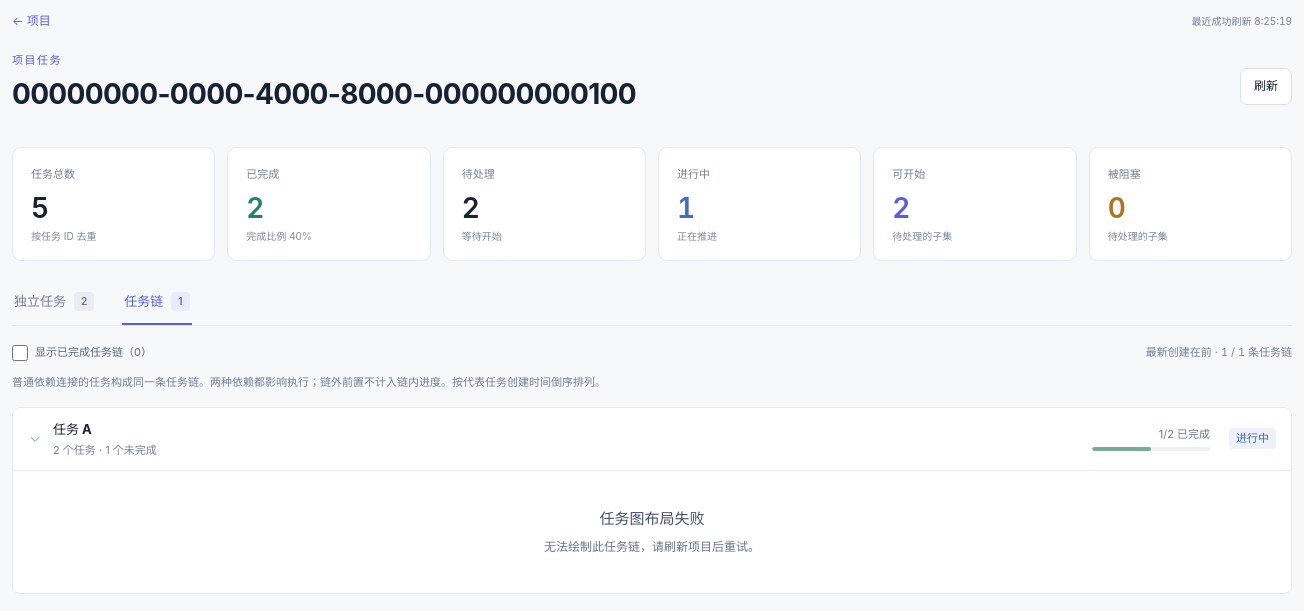
project task views › shows confirmed platform requirements in standalone rows without changing readiness
Click the tab "独立任务 2" at (54, 308), box x1=12 y1=291 x2=96 y2=325
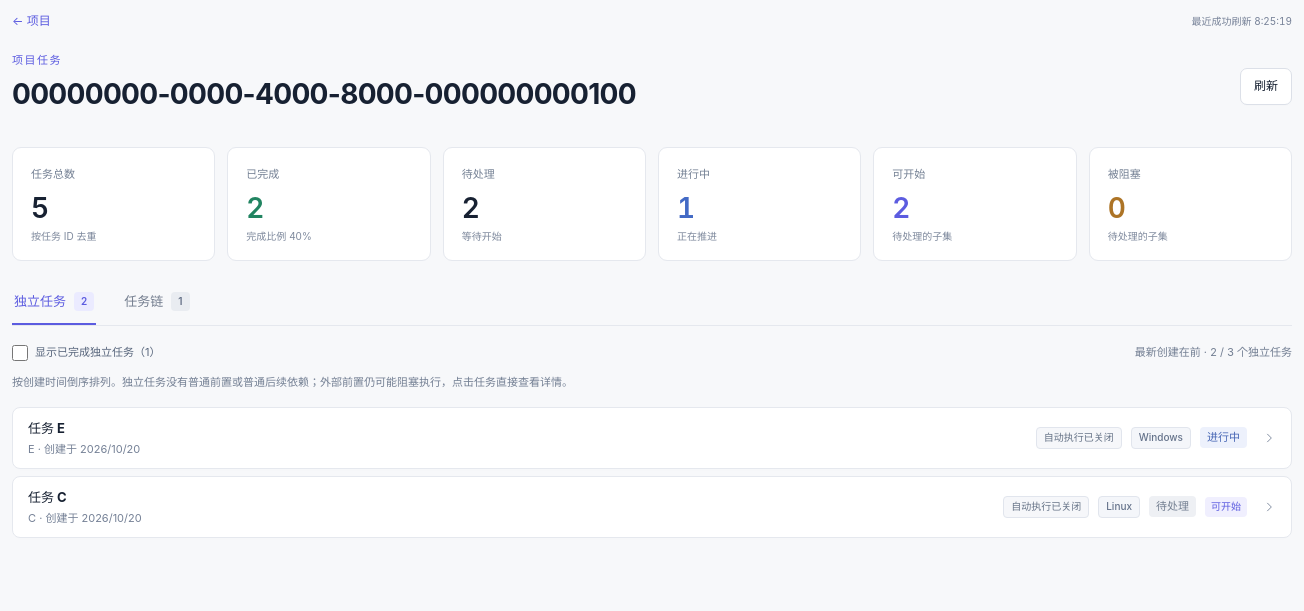
Expected: the text with class "task-platform" reads "Linux", x1=1106 y1=500 x2=1132 y2=512
Expected: the text with class "task-platform" reads "Windows", x1=1139 y1=431 x2=1183 y2=443
Expected: the button with id "standalone-task-C" shows "可开始", x1=12 y1=476 x2=1292 y2=538
